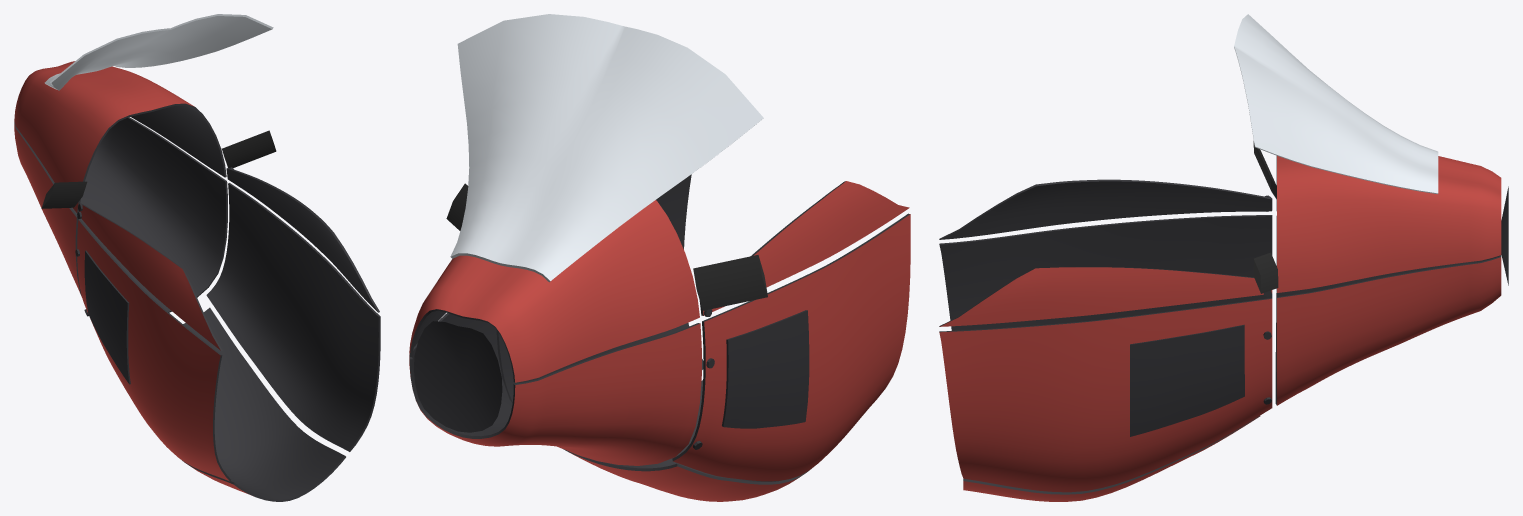
File: race.glb
3 renders of one model, left to right at view 1: azimuth 30°, elevation 25°; view 2: azimuth 150°, elevation 25°; view 3: azimuth 270°, elevation 25°, orthographic. The views are drawn at different scales.
Parts seen in each view (by area): view 1: lod0; view 2: lod0; view 3: lod0.
Part boxes in pixels (<box>): lod0: <box>14,14,380,501</box>; lod0: <box>409,14,910,501</box>; lod0: <box>939,14,1508,501</box>.
Size of what is drawn, in the model's own units: 0.511 by 0.8231 by 0.944.
